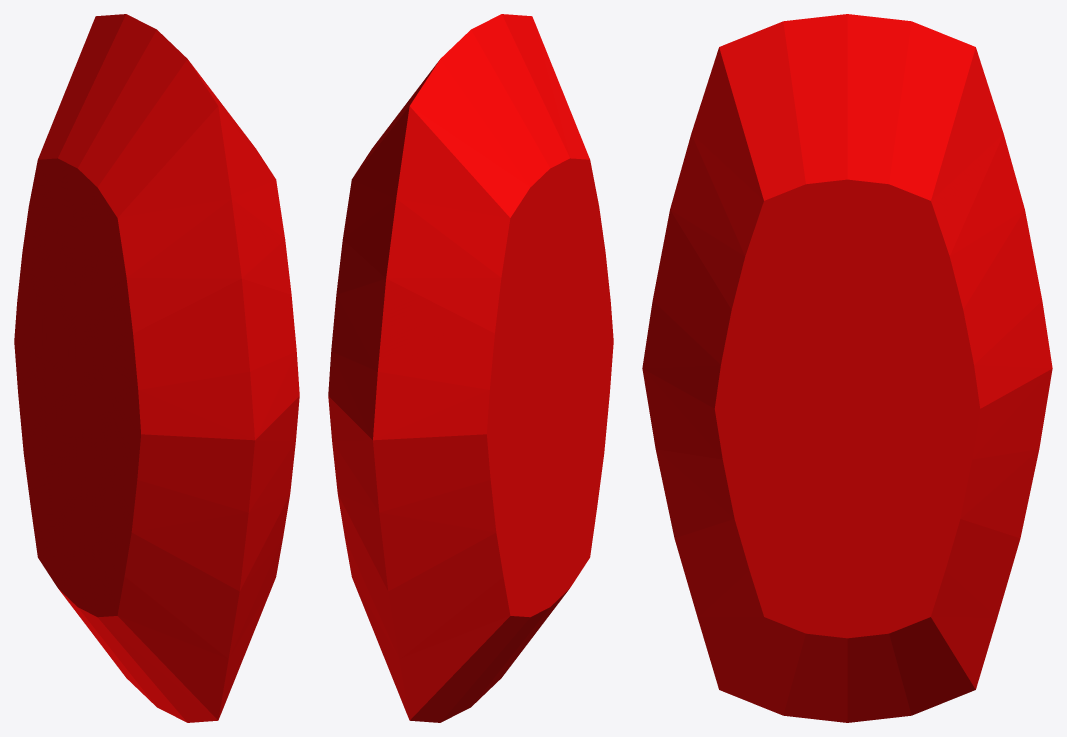
The model's file is Gem.obj.
3 renders of one model, left to right at view 1: azimuth 30°, elevation 25°; view 2: azimuth 150°, elevation 25°; view 3: azimuth 270°, elevation 25°, orthographic. The views are drawn at different scales.
Visible parts, largest first — view 1: Gem; view 2: Gem; view 3: Gem.
Part boxes in pixels (x1,y1,x2,y2): Gem: [14, 14, 299, 722]; Gem: [328, 14, 613, 722]; Gem: [642, 14, 1052, 722].
Bounding box in the file's own units: 0.1419 × 0.5798 × 0.3041.
1 material, 1 textured.
